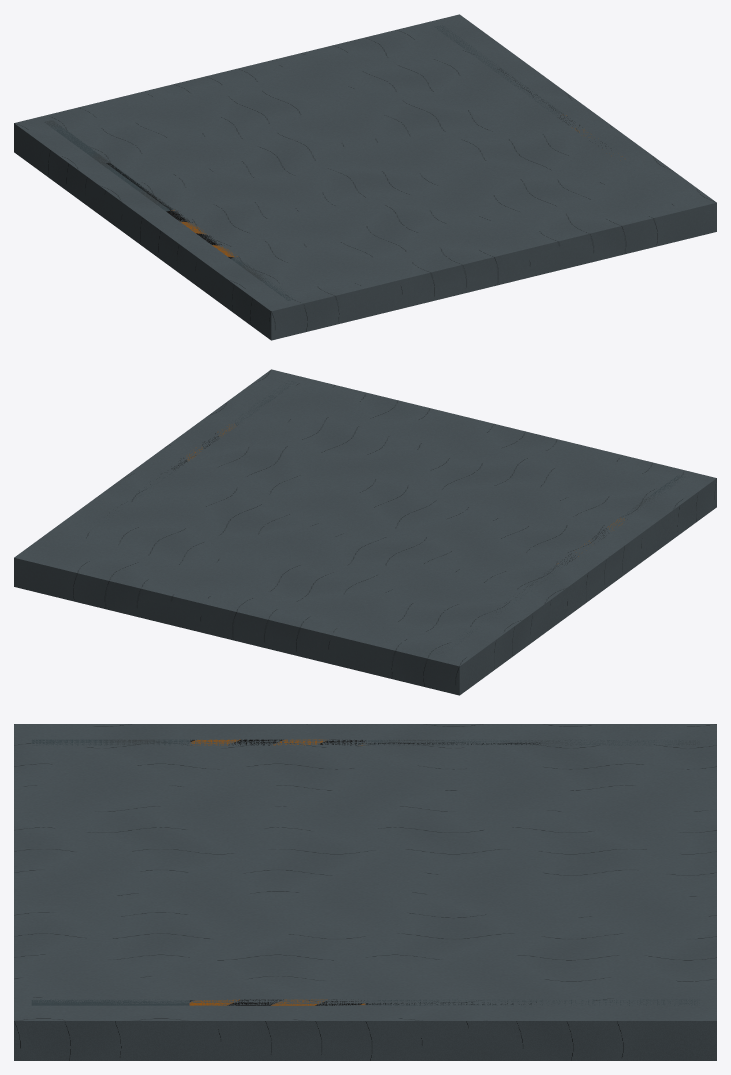
File: Floor_Metal.fbx
3 views of the same model, one above another, from view 1: azimuth 30°, elevation 25°; view 2: azimuth 150°, elevation 25°; view 3: azimuth 270°, elevation 25° (orthographic). The views are drawn at different scales.
Parts seen in each view (by area): view 1: COL_Foundry_Floor_Metal_00_Both, ENV_Foundry_Floor_Metal_LOD0; view 2: COL_Foundry_Floor_Metal_00_Both, ENV_Foundry_Floor_Metal_LOD0; view 3: COL_Foundry_Floor_Metal_00_Both, ENV_Foundry_Floor_Metal_LOD0.
Boxes of the visible parts, x1,y1,x2,y2 form: COL_Foundry_Floor_Metal_00_Both: (14,14,716,340); ENV_Foundry_Floor_Metal_LOD0: (44,25,622,300); COL_Foundry_Floor_Metal_00_Both: (14,369,716,695); ENV_Foundry_Floor_Metal_LOD0: (104,381,685,652); COL_Foundry_Floor_Metal_00_Both: (14,724,716,1060); ENV_Foundry_Floor_Metal_LOD0: (31,739,699,1005).
Size of what is drawn, in the model's own units: 4 by 0.25 by 4.
